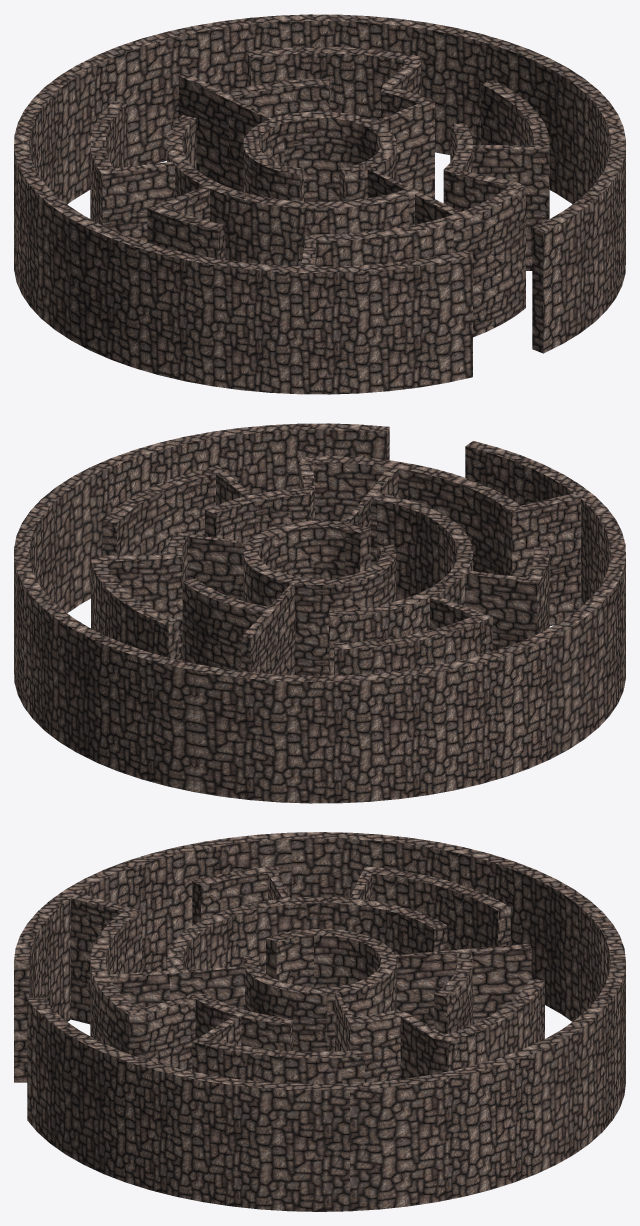
File: HardMaze_2.dae
3 renders of one model, top to bottom at view 1: azimuth 30°, elevation 25°; view 2: azimuth 150°, elevation 25°; view 3: azimuth 270°, elevation 25°, orthographic.
Visible parts, largest first — view 1: Plane; view 2: Plane; view 3: Plane.
Boxes of the visible parts, x1,y1,x2,y2 form: Plane: (14, 14, 625, 394); Plane: (14, 423, 625, 803); Plane: (14, 832, 625, 1211).
Bounding box in the file's own units: 32 × 32 × 7.
